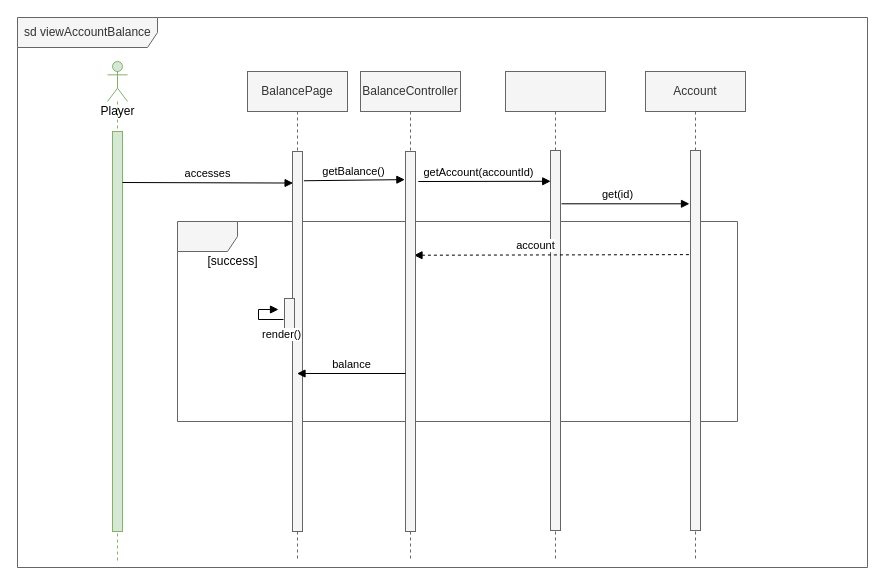
This 885x585 diagram has some shape labels left out. The box of each missing label's shape, as (x1, y1, x2, y2) in pixels:
AccountService: (504, 70, 606, 562)
alt: (176, 220, 738, 422)
